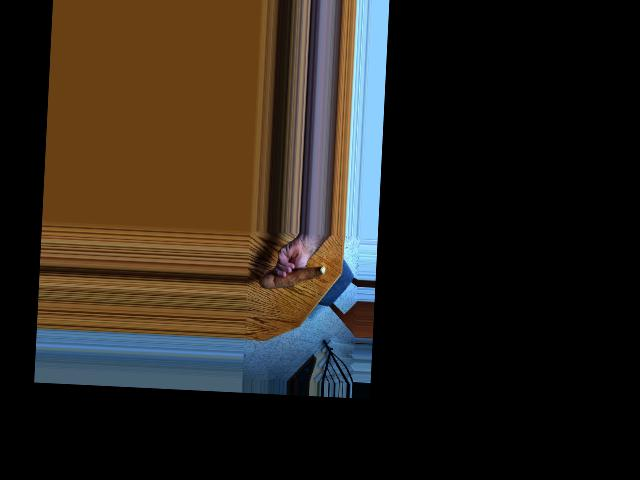sweet_potato: (261, 261, 327, 295)
